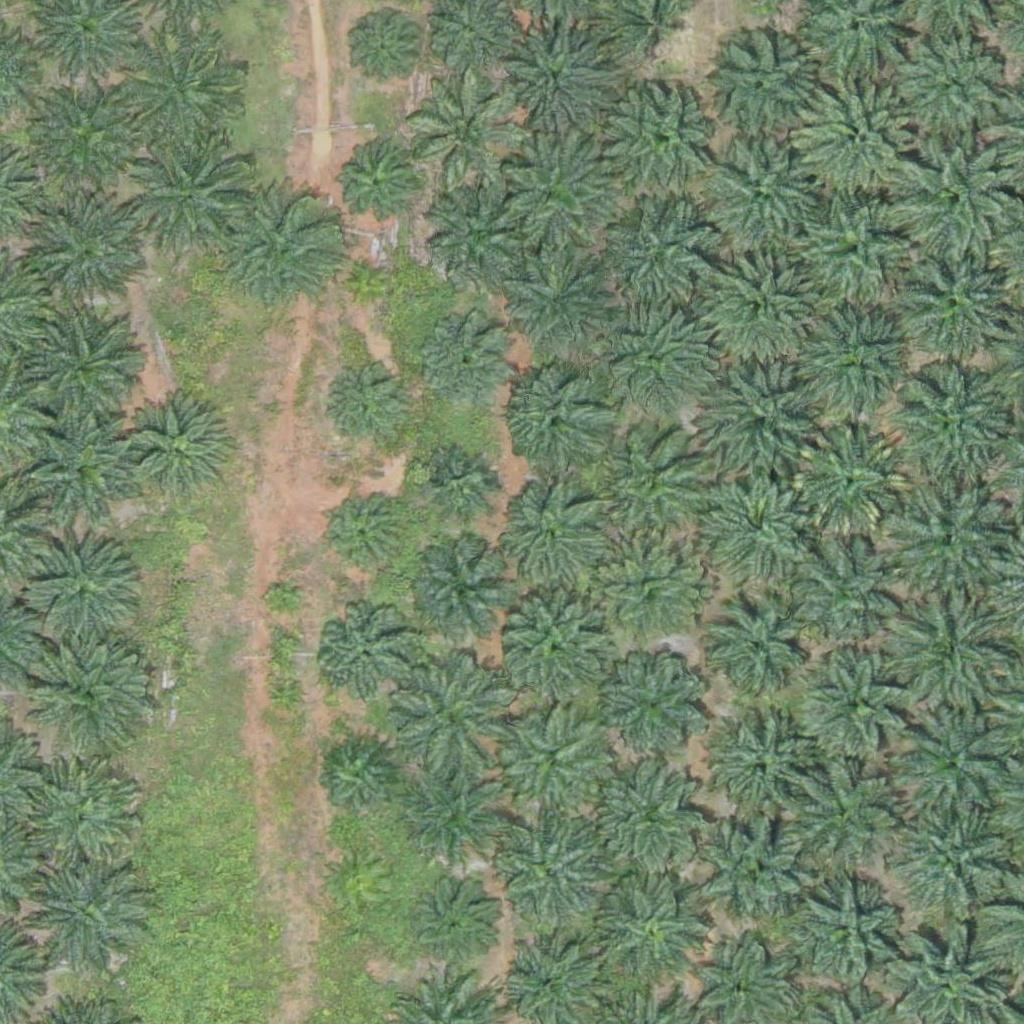Kelapa_Sawit: (30, 81, 155, 207), (120, 37, 245, 163), (495, 20, 620, 146), (603, 81, 728, 207), (700, 26, 825, 152), (809, 81, 934, 207), (892, 135, 1017, 261), (888, 238, 1013, 364), (888, 357, 1013, 483), (886, 477, 1011, 603), (876, 592, 1001, 718), (497, 127, 622, 253), (122, 130, 247, 256), (19, 308, 144, 434), (25, 529, 150, 655), (24, 625, 149, 751), (386, 651, 511, 777), (19, 755, 144, 881), (23, 855, 148, 981), (892, 700, 1017, 826), (890, 794, 1015, 920), (222, 184, 347, 309), (800, 193, 913, 307), (800, 301, 913, 415), (409, 74, 522, 187), (900, 30, 1013, 143), (595, 427, 708, 540), (589, 533, 702, 646), (501, 594, 614, 707), (491, 478, 604, 591), (501, 362, 614, 475), (506, 244, 619, 357), (122, 397, 235, 510), (599, 644, 712, 757), (707, 714, 820, 827), (594, 759, 707, 872), (594, 872, 707, 985), (692, 810, 805, 923), (703, 253, 815, 367), (707, 142, 819, 256), (28, 411, 140, 525), (786, 761, 898, 875), (794, 423, 906, 536), (793, 539, 905, 652), (700, 592, 812, 705), (700, 468, 812, 581), (707, 366, 819, 479), (599, 200, 711, 313), (598, 301, 710, 414), (426, 183, 538, 296), (28, 196, 140, 309), (801, 648, 913, 761), (499, 710, 611, 823), (400, 761, 512, 874), (495, 817, 607, 930), (788, 874, 900, 987), (419, 312, 519, 413), (411, 543, 511, 644), (315, 606, 415, 706), (324, 364, 412, 452), (322, 492, 410, 580), (334, 140, 422, 228), (412, 875, 499, 963), (321, 740, 396, 816), (347, 16, 422, 91), (423, 447, 498, 522), (357, 263, 395, 301), (265, 583, 302, 621)
